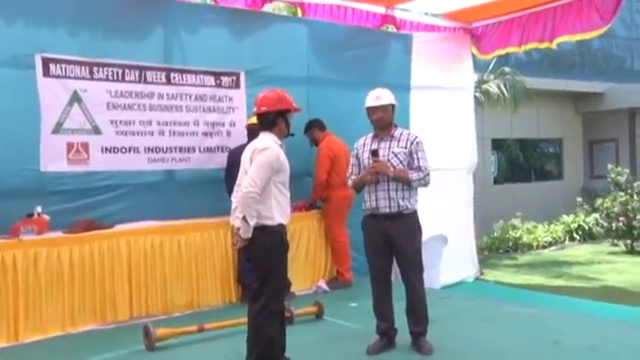helmet: (360, 84, 402, 139), (252, 88, 305, 115), (363, 86, 399, 108), (241, 113, 261, 128)
helmet_off: (301, 116, 330, 147)
helmet_on: (252, 88, 301, 143), (241, 112, 262, 145)
person: (345, 81, 436, 356), (230, 88, 305, 360), (302, 118, 353, 290), (225, 112, 261, 199)
